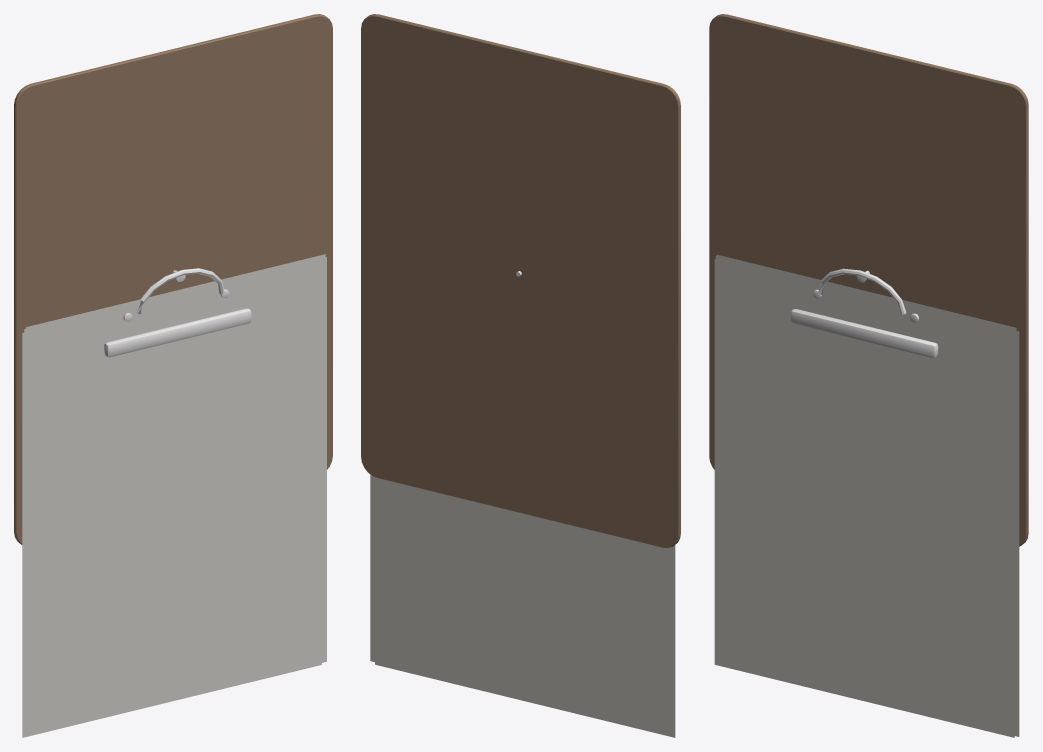
The model's file is Kit_Clipboard_Wall.fbx.
The picture shows the model from 3 angles, left to right: view 1: azimuth 30°, elevation 25°; view 2: azimuth 150°, elevation 25°; view 3: azimuth 330°, elevation 25°; orthographic projection.
Parts seen in each view (by area): view 1: Kit_Clipboard_Wall_LOD0; view 2: Kit_Clipboard_Wall_LOD0; view 3: Kit_Clipboard_Wall_LOD0.
Part boxes in pixels (<box>): Kit_Clipboard_Wall_LOD0: <box>14,14,332,737</box>; Kit_Clipboard_Wall_LOD0: <box>361,14,680,737</box>; Kit_Clipboard_Wall_LOD0: <box>709,14,1028,737</box>.
Size of what is drawn, in the model's own units: 0.229 by 0.448 by 0.0168.
